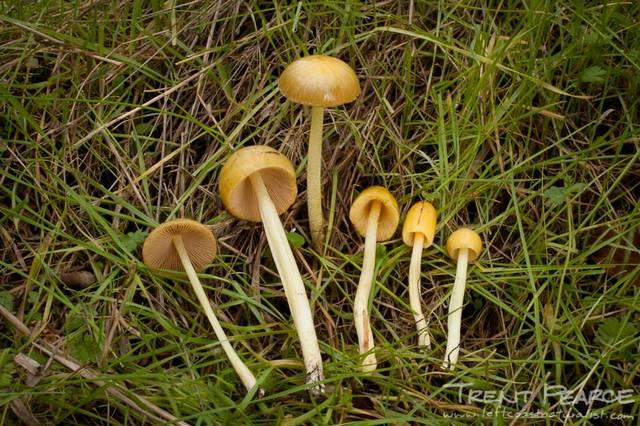Edible Mushroom: (217, 144, 325, 398), (141, 217, 264, 399), (277, 53, 360, 255), (348, 185, 399, 373), (442, 227, 482, 370), (401, 200, 436, 349)
